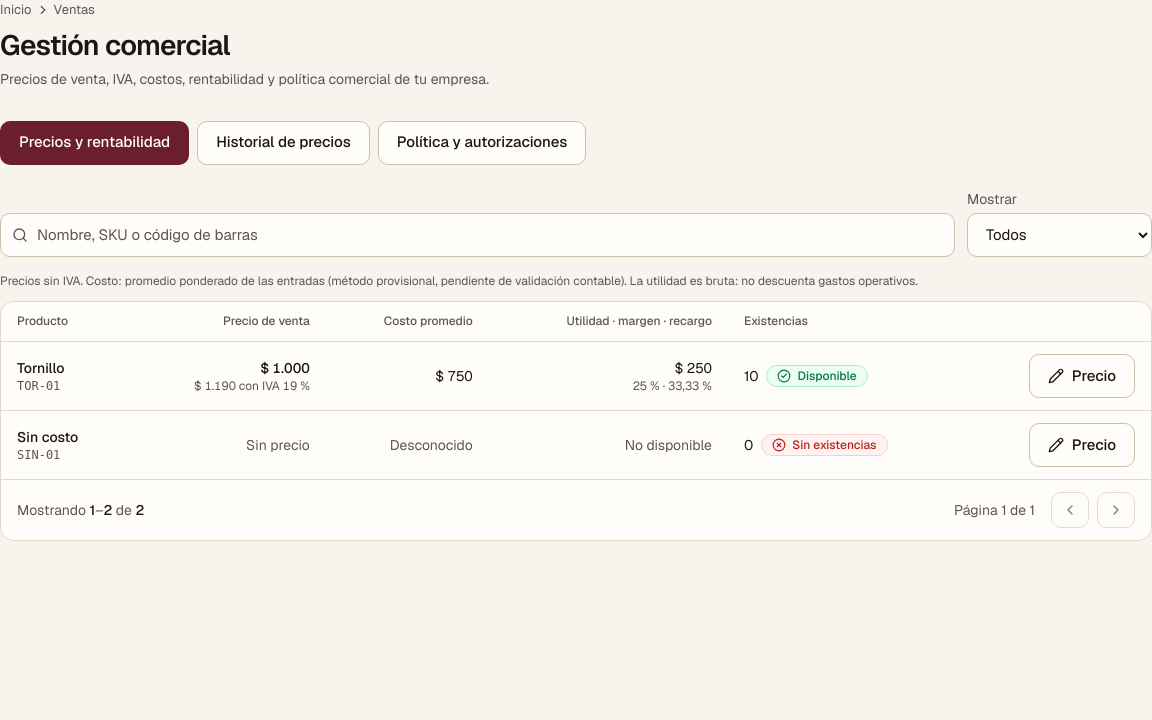
Scenario: Gestión comercial › el administrador cambia un precio con confirmación y advertencia bajo el costo
Click the button with aria-label "Cambiar precio de Tornillo" at (1082, 376), box left=1029, top=354, right=1135, bottom=398
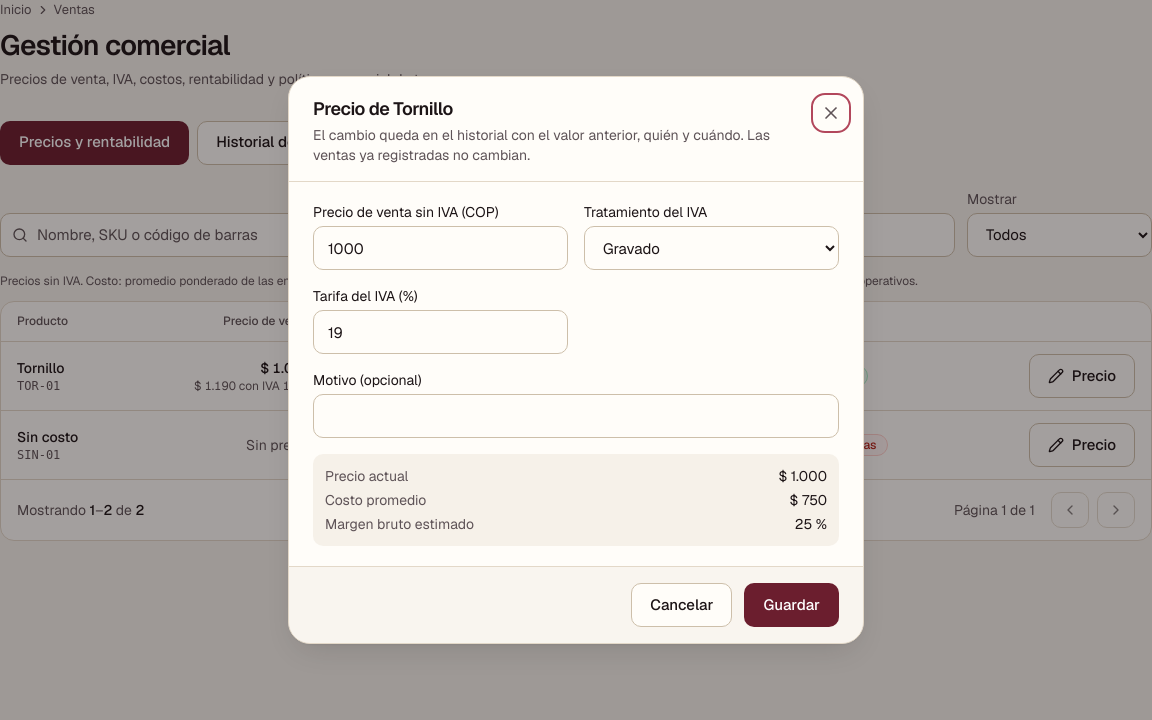
Replace the text in the field labelled "Precio de venta sin IVA (COP)" with "700" at (440, 248), box left=313, top=226, right=568, bottom=270
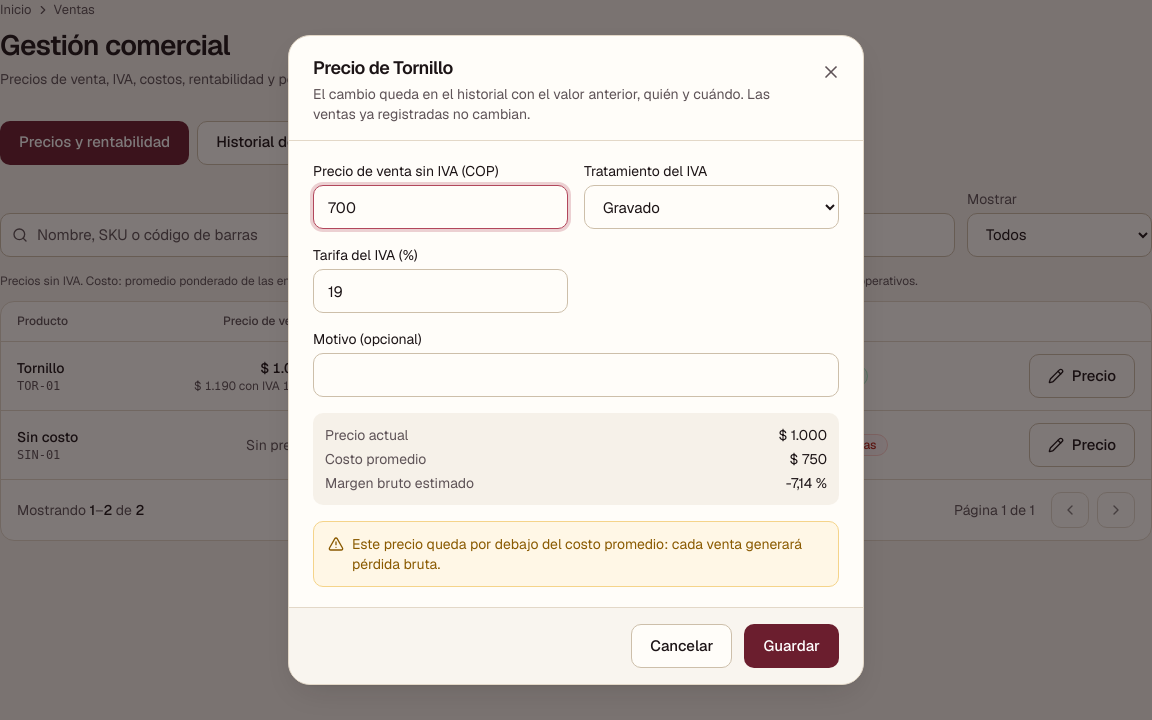
Check: the text "por debajo del costo promedio" is shown, box left=352, top=535, right=802, bottom=573
Type "Liquidación" into the field labelled "Motivo (opcional)" at (576, 375), box left=313, top=353, right=839, bottom=397
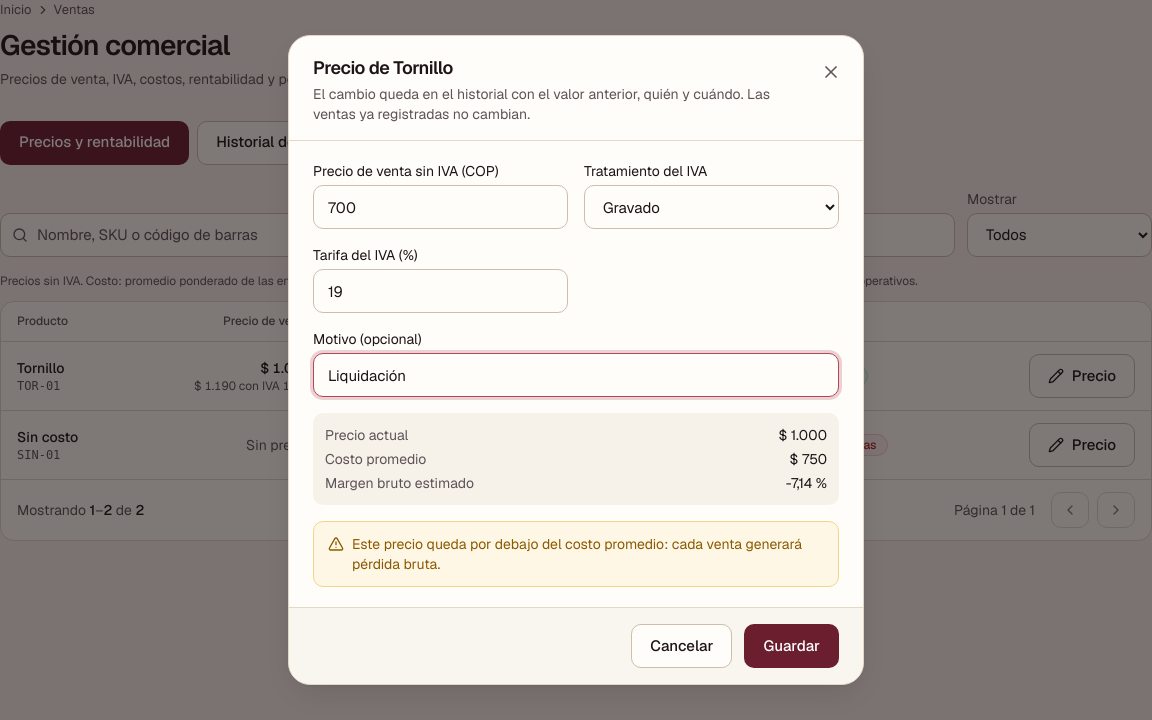
Click the button "Guardar" at (792, 646), box left=744, top=624, right=839, bottom=668
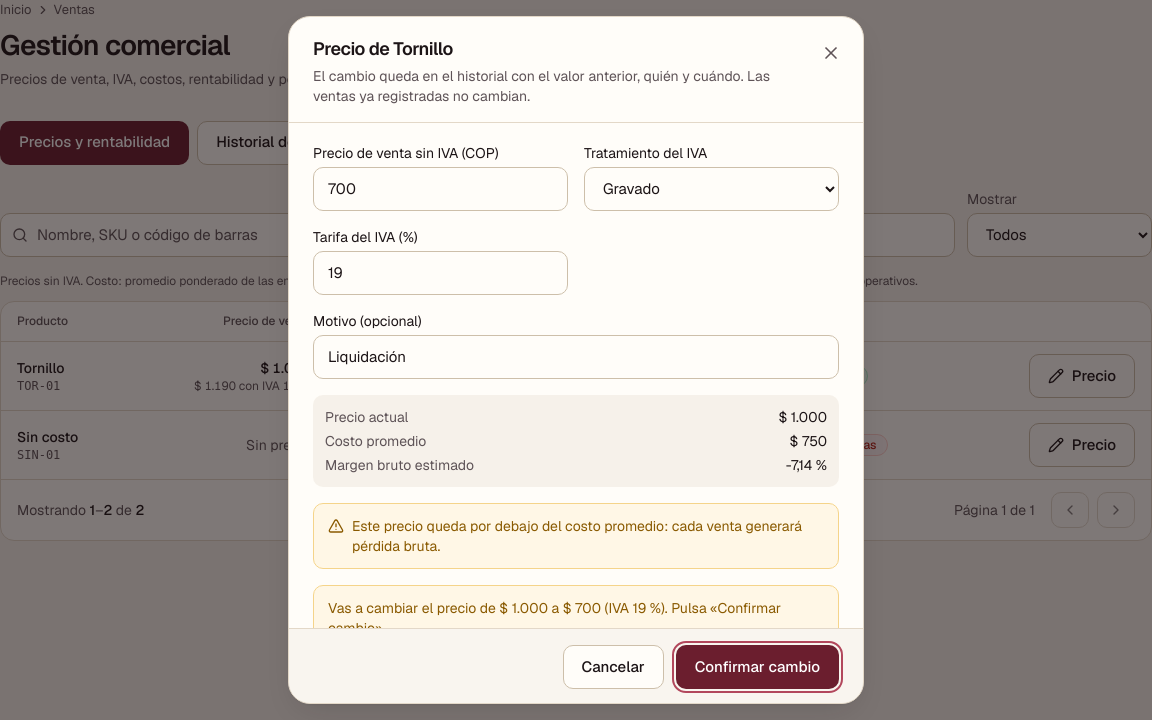
Check: the text "Pulsa «Confirmar cambio»" is shown, box left=328, top=599, right=781, bottom=628
Click the button "Confirmar cambio" at (757, 667), box left=676, top=645, right=839, bottom=689
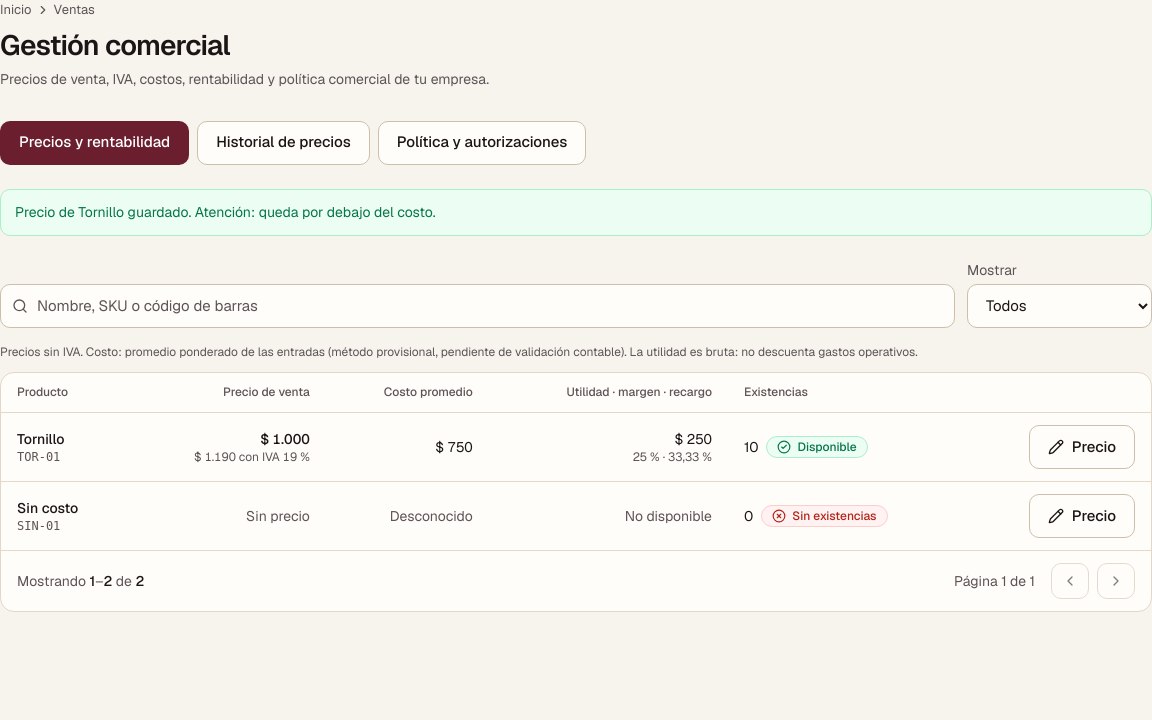
Check: the text "queda por debajo del costo" is shown, box left=15, top=202, right=436, bottom=220
